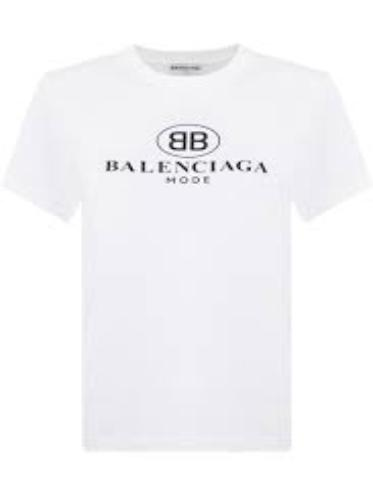BALENCIAGA: (103, 154, 273, 174), (167, 126, 209, 151)
